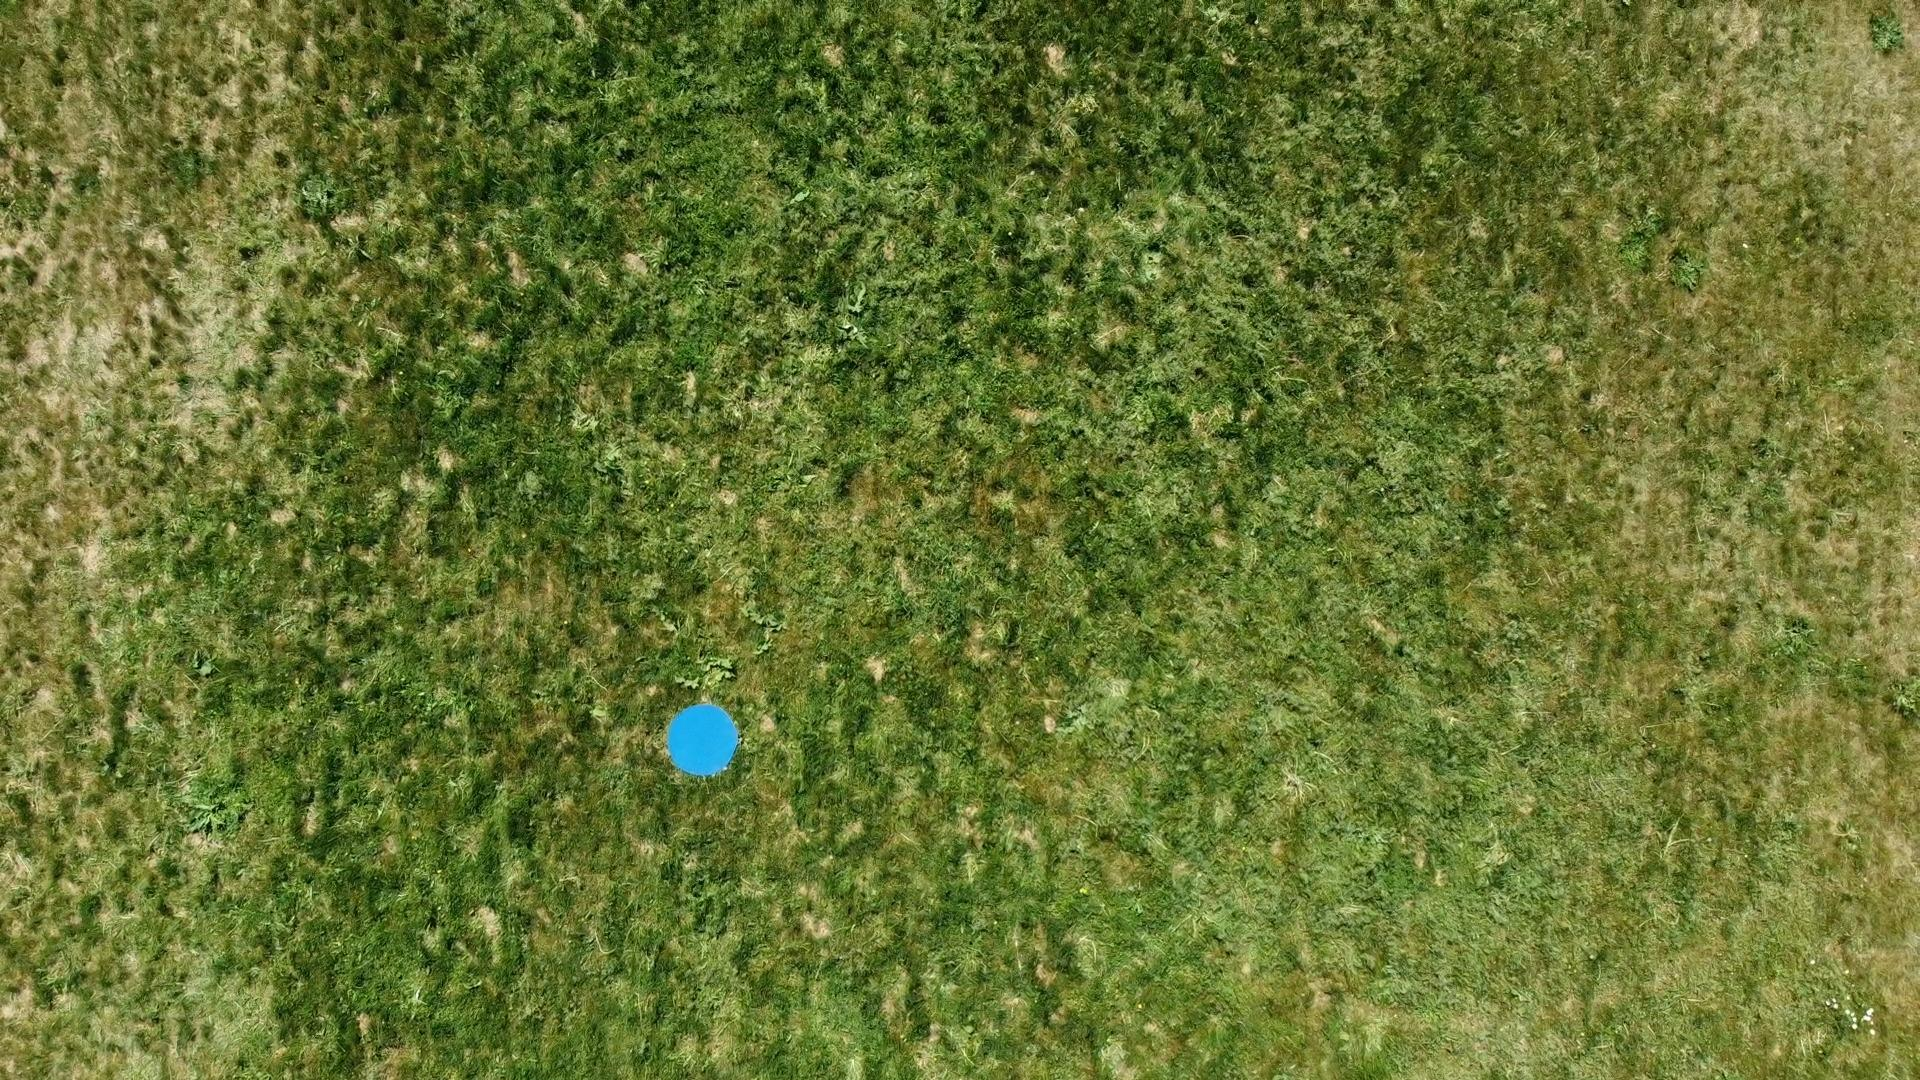Blue: (665, 702, 741, 779)
